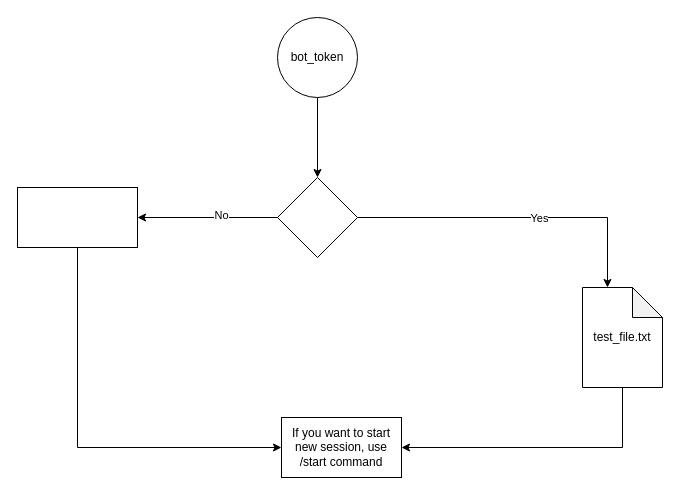
This 680x495 diagram has some shape labels left out. The centre of each missing label's shape, as x and y in pixels:
"[download]Do you want to download file?" goes at (317,217).
"Ok..." goes at (77,217).
